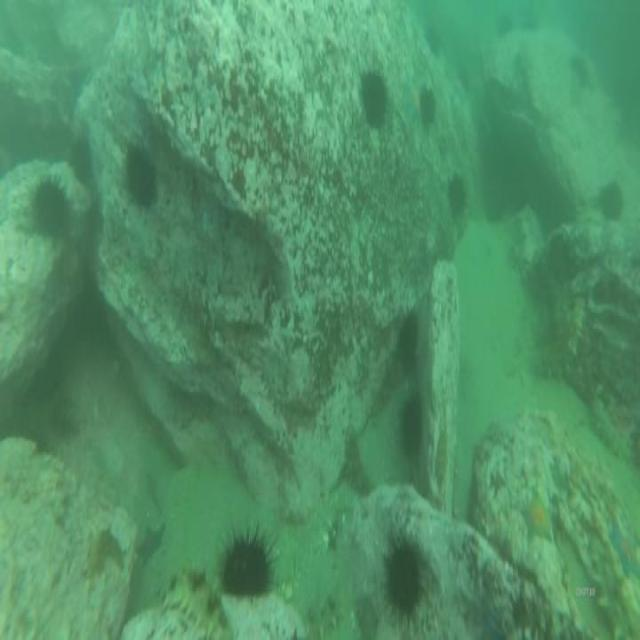echinus: (381, 528, 432, 632), (221, 530, 271, 600), (32, 169, 75, 240), (124, 140, 160, 212), (358, 63, 391, 130), (396, 384, 424, 458), (395, 307, 423, 373), (442, 165, 470, 228), (596, 174, 626, 226), (66, 133, 94, 185), (415, 84, 443, 134)
holothurian: (156, 564, 233, 640), (588, 386, 638, 468), (535, 299, 584, 371), (344, 428, 372, 498)
starfish: (519, 488, 559, 550), (609, 518, 640, 583)
